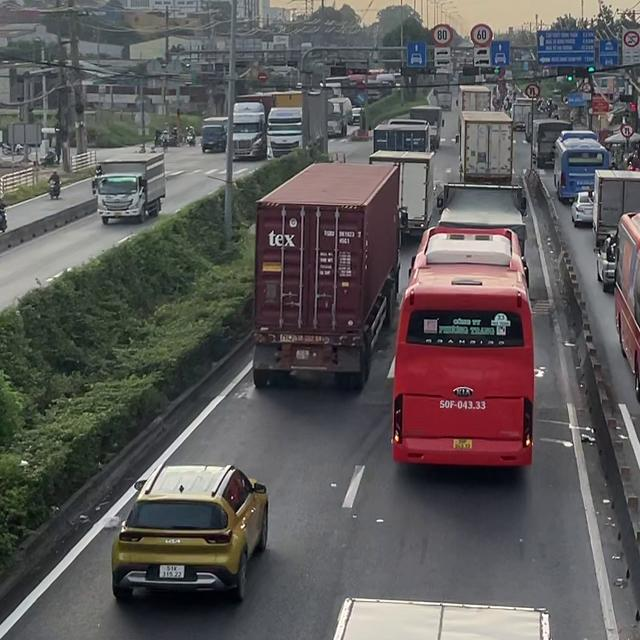bus: (399, 234, 534, 470), (612, 210, 639, 406), (552, 130, 612, 203)
car: (110, 463, 268, 603), (594, 233, 617, 292), (570, 190, 594, 226)
motorcycle: (47, 178, 61, 199), (0, 200, 7, 233), (186, 134, 195, 146)
truck: (252, 160, 401, 390), (330, 596, 551, 639), (435, 182, 527, 257), (368, 149, 436, 235), (91, 152, 166, 224), (458, 110, 513, 183), (594, 168, 639, 252), (266, 92, 308, 159), (229, 101, 266, 160), (531, 118, 572, 168), (372, 118, 431, 152), (409, 105, 445, 149), (326, 96, 352, 137), (200, 116, 228, 153), (458, 84, 492, 111), (511, 104, 532, 131)
